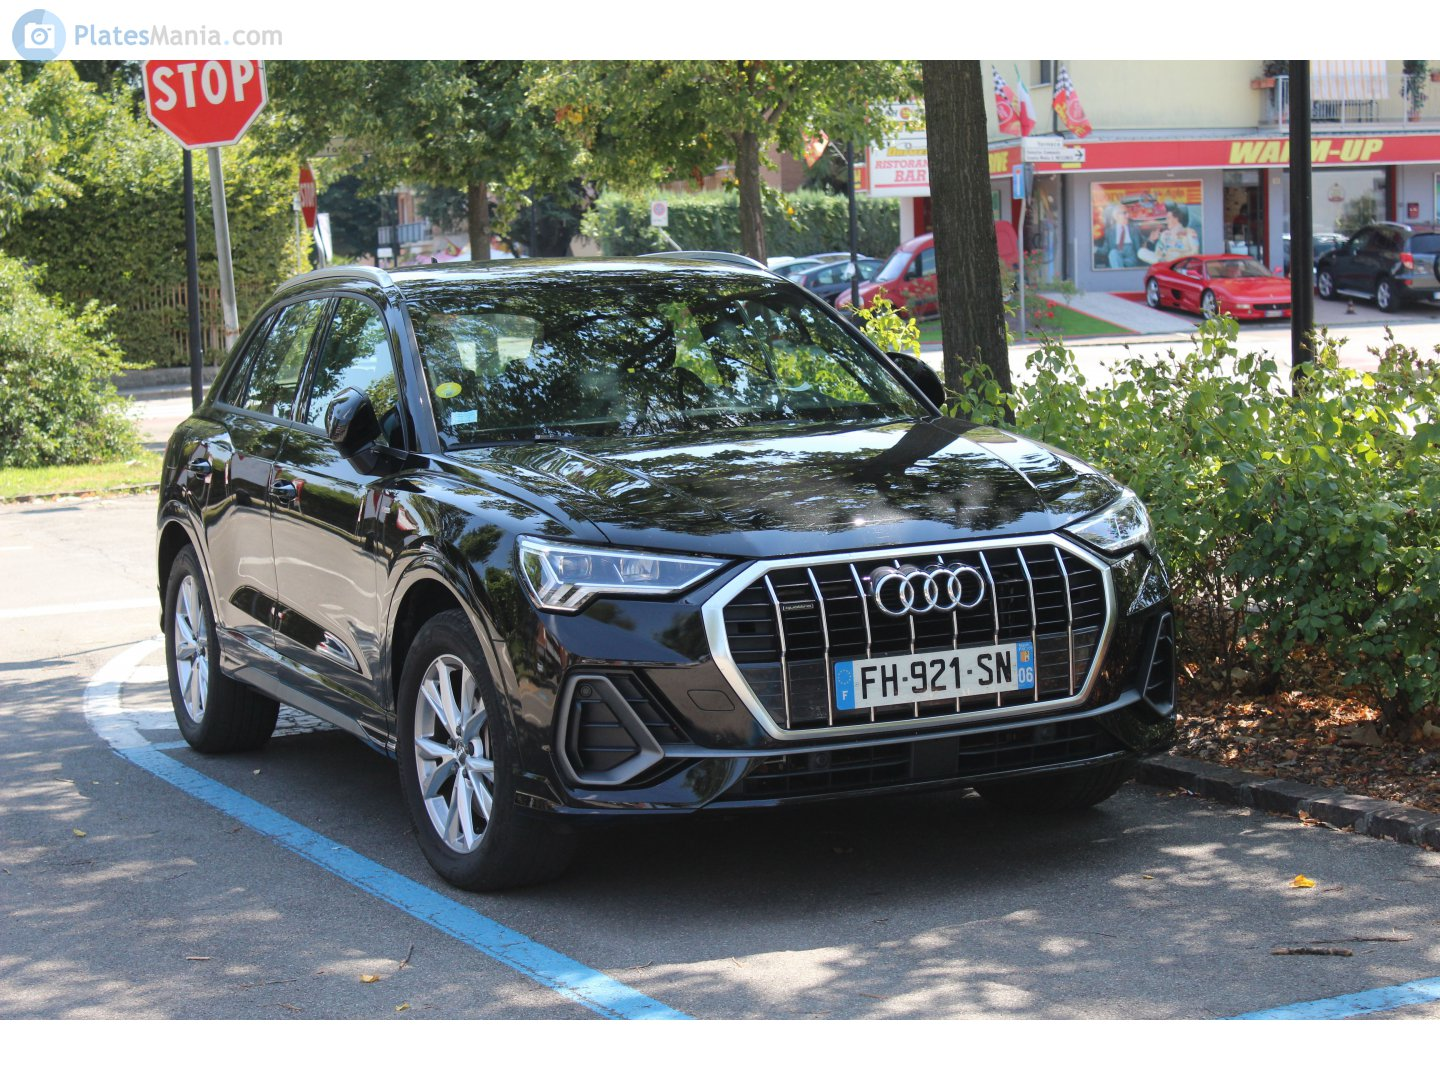licence plate: (829, 637, 1040, 717)
